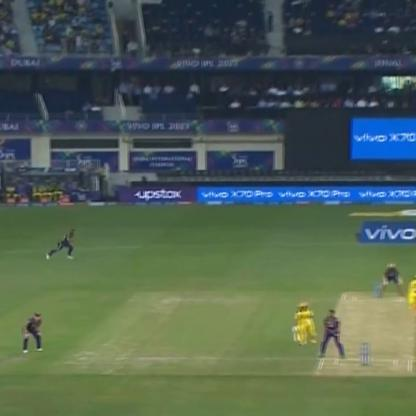pitch: (315, 284, 412, 380)
